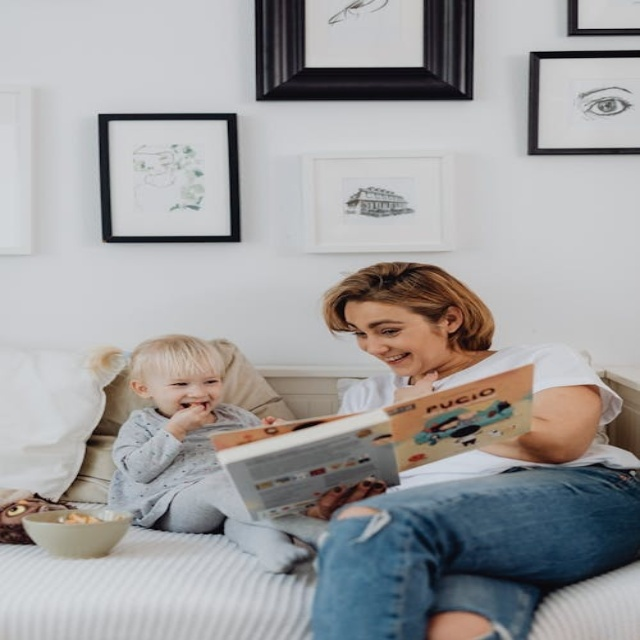Sin_gafas: (343, 314, 428, 343), (161, 375, 224, 393)
Sin_guantes: (307, 479, 388, 520)
Sin_mascara: (370, 349, 428, 377), (172, 399, 212, 418)
